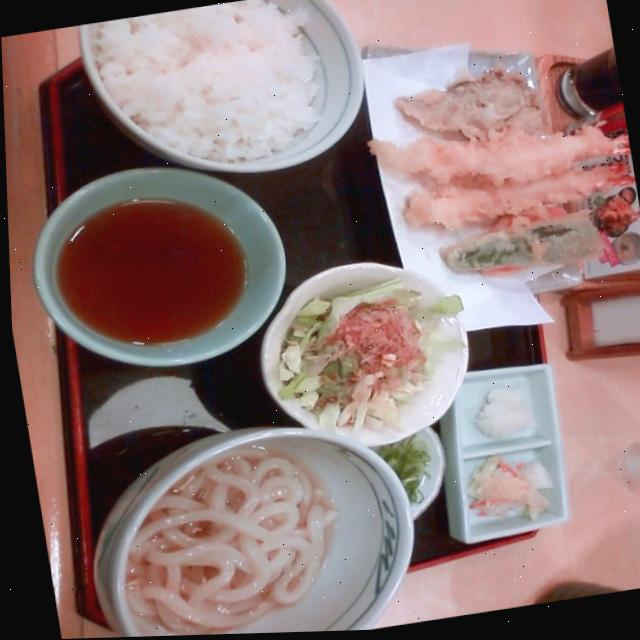米饭主食: (69, 0, 353, 192)
